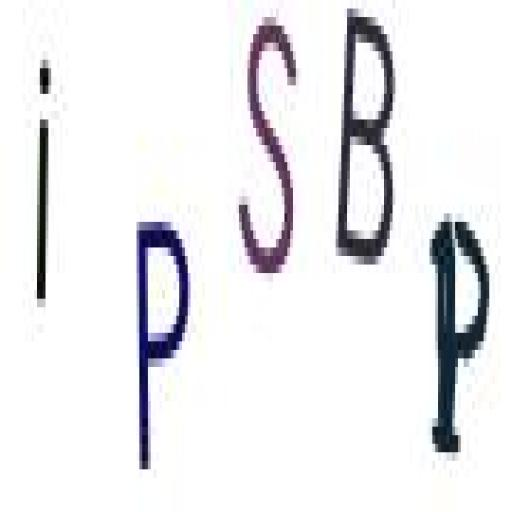B: (335, 2, 401, 286)
P: (426, 198, 496, 468), (132, 205, 193, 499)
S: (236, 4, 300, 288)
i: (34, 42, 54, 322)
